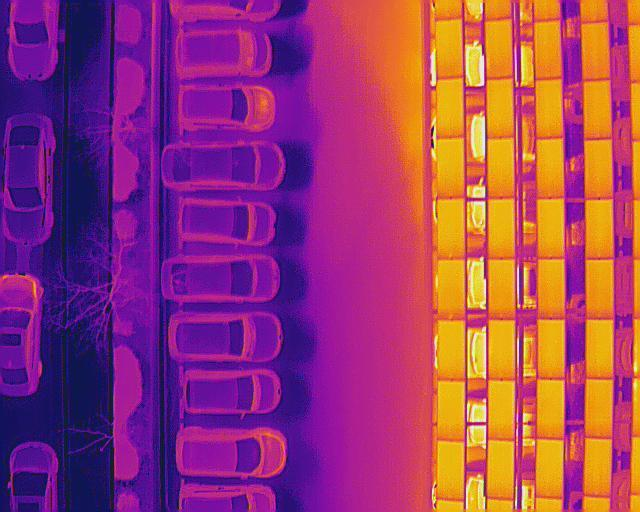No-Anomaly: (534, 80, 564, 139), (585, 200, 614, 261), (584, 139, 613, 200), (585, 260, 614, 319), (536, 319, 564, 379), (536, 140, 564, 200), (437, 440, 464, 502), (486, 78, 514, 137), (537, 379, 564, 440), (537, 199, 564, 260), (438, 260, 465, 321), (488, 137, 515, 198), (585, 320, 613, 378), (584, 78, 610, 140), (582, 21, 610, 78), (485, 19, 512, 78), (488, 320, 515, 379), (489, 381, 516, 440), (585, 380, 612, 439), (534, 21, 561, 80), (488, 200, 515, 259), (438, 320, 465, 379), (438, 138, 464, 199), (438, 379, 464, 440), (537, 260, 564, 318), (437, 78, 463, 138), (488, 440, 514, 500), (584, 440, 611, 497), (489, 260, 515, 319), (537, 441, 563, 500), (437, 19, 463, 78), (439, 197, 464, 258)
